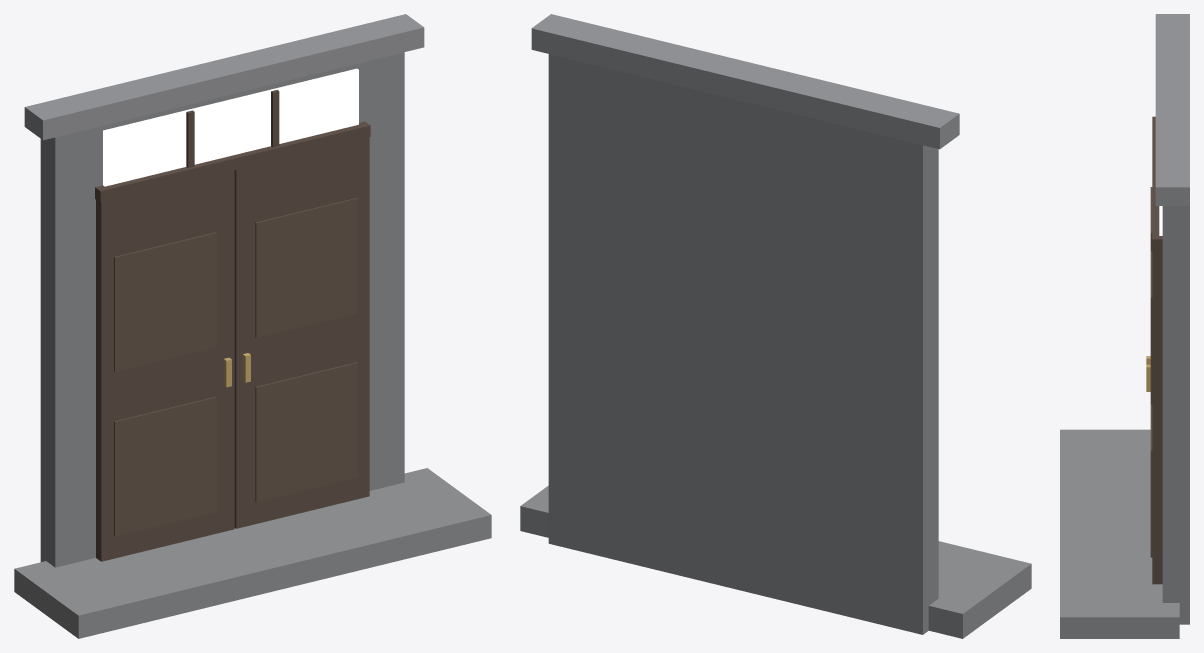
File: puerta_doble.glb
3 renders of one model, left to right at view 1: azimuth 30°, elevation 25°; view 2: azimuth 150°, elevation 25°; view 3: azimuth 270°, elevation 25°, orthographic. The views are drawn at different scales.
Visible parts, largest first — view 1: PuertaDoble_170x230; view 2: PuertaDoble_170x230; view 3: PuertaDoble_170x230.
Part boxes in pixels (x1,y1,x2,y2): PuertaDoble_170x230: (14, 14, 491, 638); PuertaDoble_170x230: (520, 14, 1031, 638); PuertaDoble_170x230: (1060, 14, 1189, 638).
Size of the model in its own units: 2.6 by 2.87 by 0.76.
